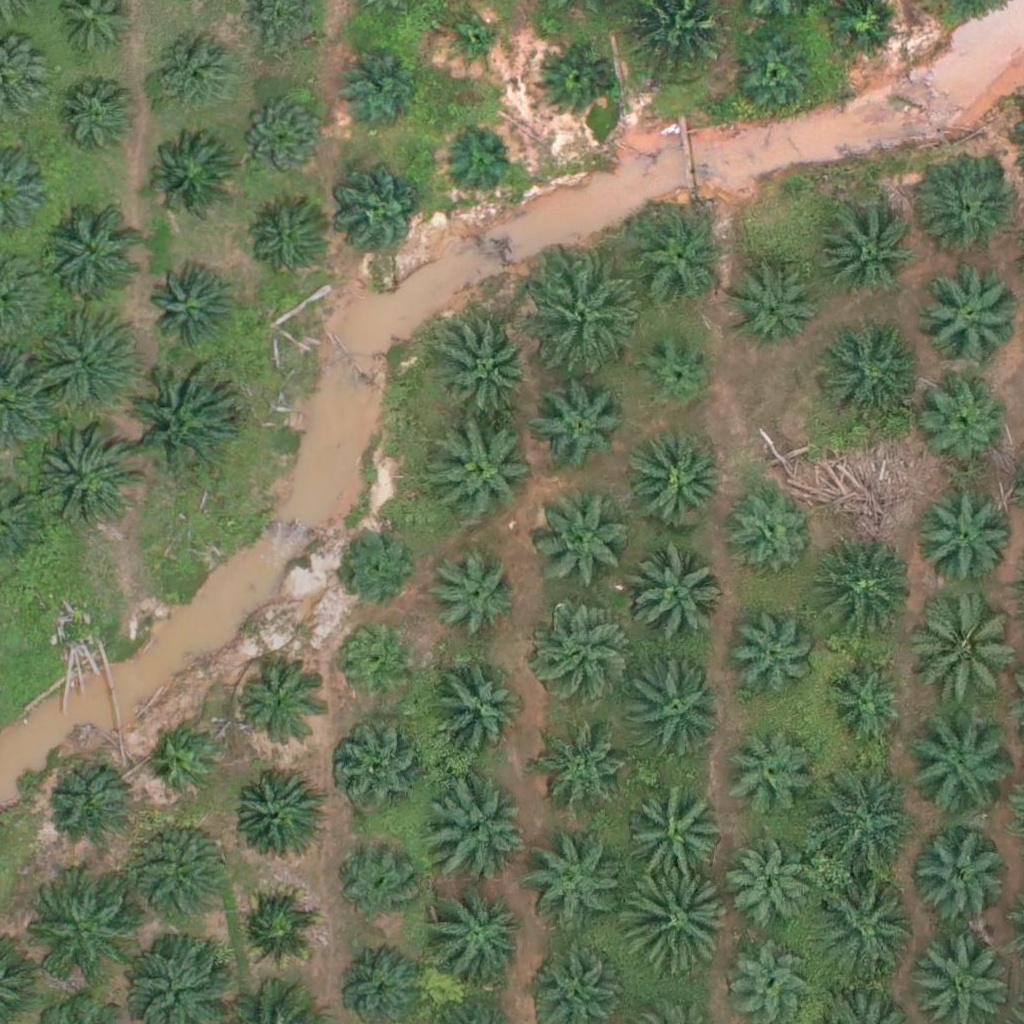Kelapa_Sawit: (525, 261, 638, 375), (902, 711, 1015, 824), (808, 866, 921, 979), (809, 766, 922, 879), (123, 366, 236, 479), (619, 865, 731, 979), (26, 303, 138, 416), (630, 209, 730, 310), (916, 152, 1016, 253), (816, 201, 916, 302), (907, 829, 1007, 930), (630, 789, 730, 890), (522, 837, 622, 938), (429, 883, 529, 984), (23, 883, 123, 984), (918, 487, 1018, 588), (921, 262, 1021, 363), (817, 322, 917, 423), (530, 603, 630, 704), (422, 544, 522, 645), (32, 427, 132, 528), (43, 206, 143, 306), (428, 664, 528, 764), (431, 780, 531, 880), (130, 818, 230, 918), (812, 541, 912, 641), (626, 430, 726, 530), (626, 543, 726, 643), (625, 658, 725, 758), (534, 488, 634, 588), (438, 318, 538, 418), (429, 424, 529, 524), (48, 73, 136, 162), (338, 172, 426, 260), (721, 733, 809, 821), (725, 845, 813, 933), (544, 734, 632, 822), (332, 621, 420, 709), (336, 839, 424, 927), (45, 759, 133, 847), (821, 654, 909, 742), (731, 264, 819, 352), (243, 199, 330, 287), (238, 92, 325, 180), (148, 31, 235, 119), (144, 131, 231, 219), (336, 39, 423, 127), (734, 32, 821, 120), (334, 722, 421, 810), (236, 663, 323, 751), (232, 768, 319, 856), (232, 886, 319, 974), (921, 374, 1008, 462), (728, 608, 815, 696), (725, 485, 812, 573), (535, 385, 622, 473), (334, 522, 421, 610), (149, 268, 236, 356), (148, 725, 223, 801), (536, 40, 611, 116), (639, 334, 714, 410), (442, 123, 517, 198), (443, 12, 506, 75)
